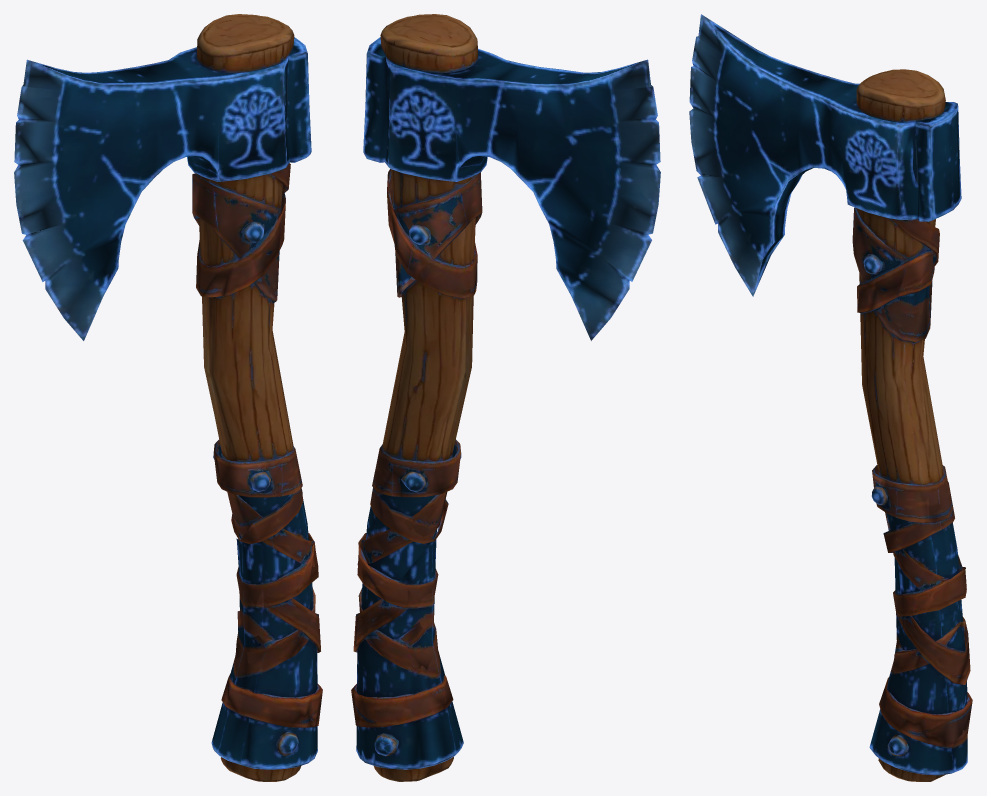
Rendered from holzbeil.episch.glb.
3 views of the same model, side by side, from view 1: azimuth 30°, elevation 25°; view 2: azimuth 150°, elevation 25°; view 3: azimuth 330°, elevation 25° (orthographic). The views are drawn at different scales.
Parts seen in each view (by area): view 1: baum; view 2: baum; view 3: baum.
Part boxes in pixels (x1,y1,x2,y2): baum: (14,14,322,781); baum: (351,14,660,781); baum: (689,14,972,781).
Size of the model in its own units: 0.2463 by 0.6 by 0.0779.
1 material, 1 textured.
